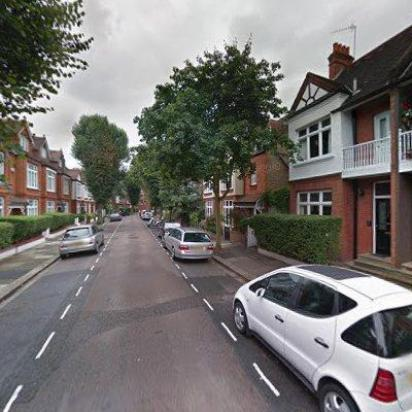stationary-car-onstreet: (231, 261, 411, 411), (162, 226, 214, 262), (58, 224, 104, 256), (158, 222, 180, 240), (108, 211, 120, 221)
stationary-light-truck-onstreet: (142, 209, 152, 221)
